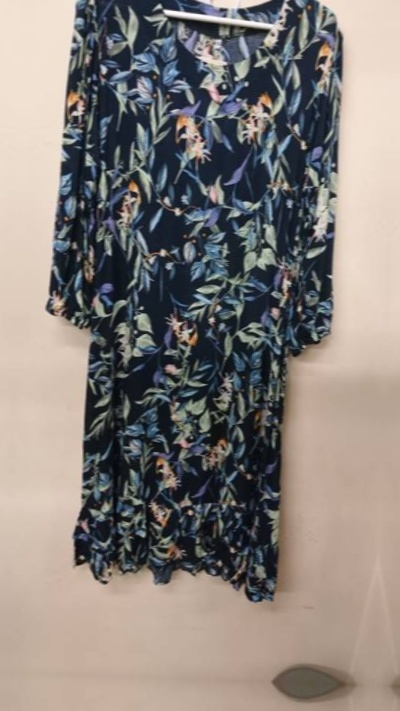Dress: (27, 0, 385, 620), (391, 0, 400, 633), (0, 0, 9, 607)
